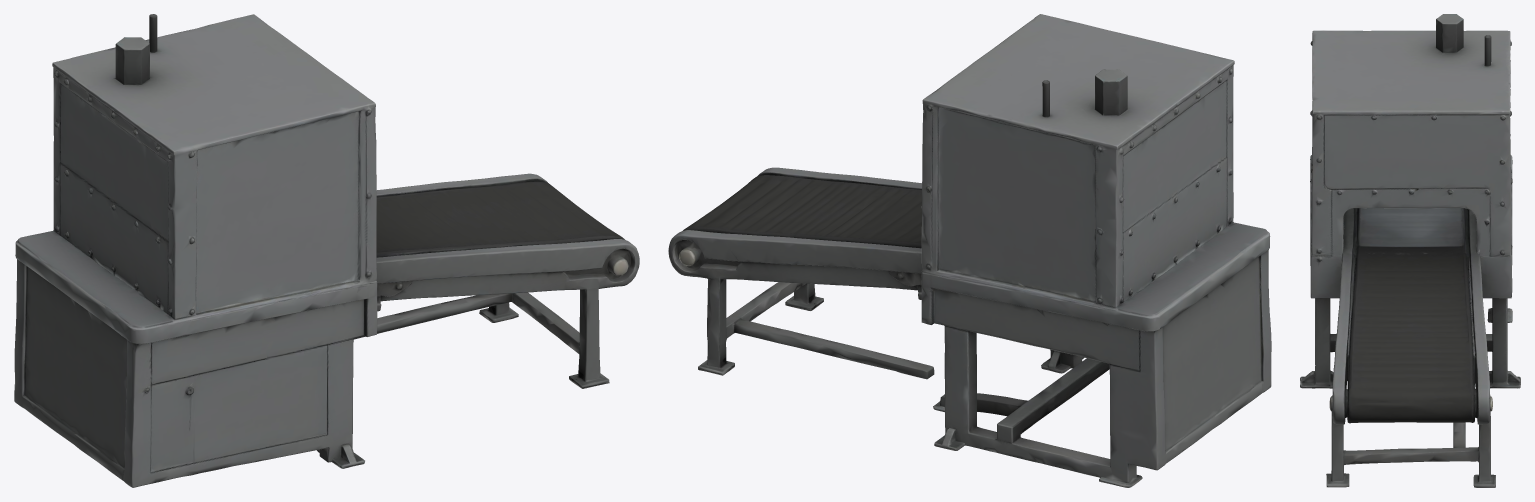
Rendered from Conveyorbelt3d.glb.
3 views of the same model, side by side, from view 1: azimuth 30°, elevation 25°; view 2: azimuth 150°, elevation 25°; view 3: azimuth 270°, elevation 25° (orthographic). The views are drawn at different scales.
Parts seen in each view (by area): view 1: tripo_node_573f7afc-c782-46b4-b913-ea05fc3906a0; view 2: tripo_node_573f7afc-c782-46b4-b913-ea05fc3906a0; view 3: tripo_node_573f7afc-c782-46b4-b913-ea05fc3906a0.
Part boxes in pixels (<box>): tripo_node_573f7afc-c782-46b4-b913-ea05fc3906a0: <box>14,14,639,487</box>; tripo_node_573f7afc-c782-46b4-b913-ea05fc3906a0: <box>668,14,1271,487</box>; tripo_node_573f7afc-c782-46b4-b913-ea05fc3906a0: <box>1300,14,1520,487</box>.
Size of the model in its own units: 1 by 0.7117 by 0.4533.
Materials: 1 (1 with a texture image).
